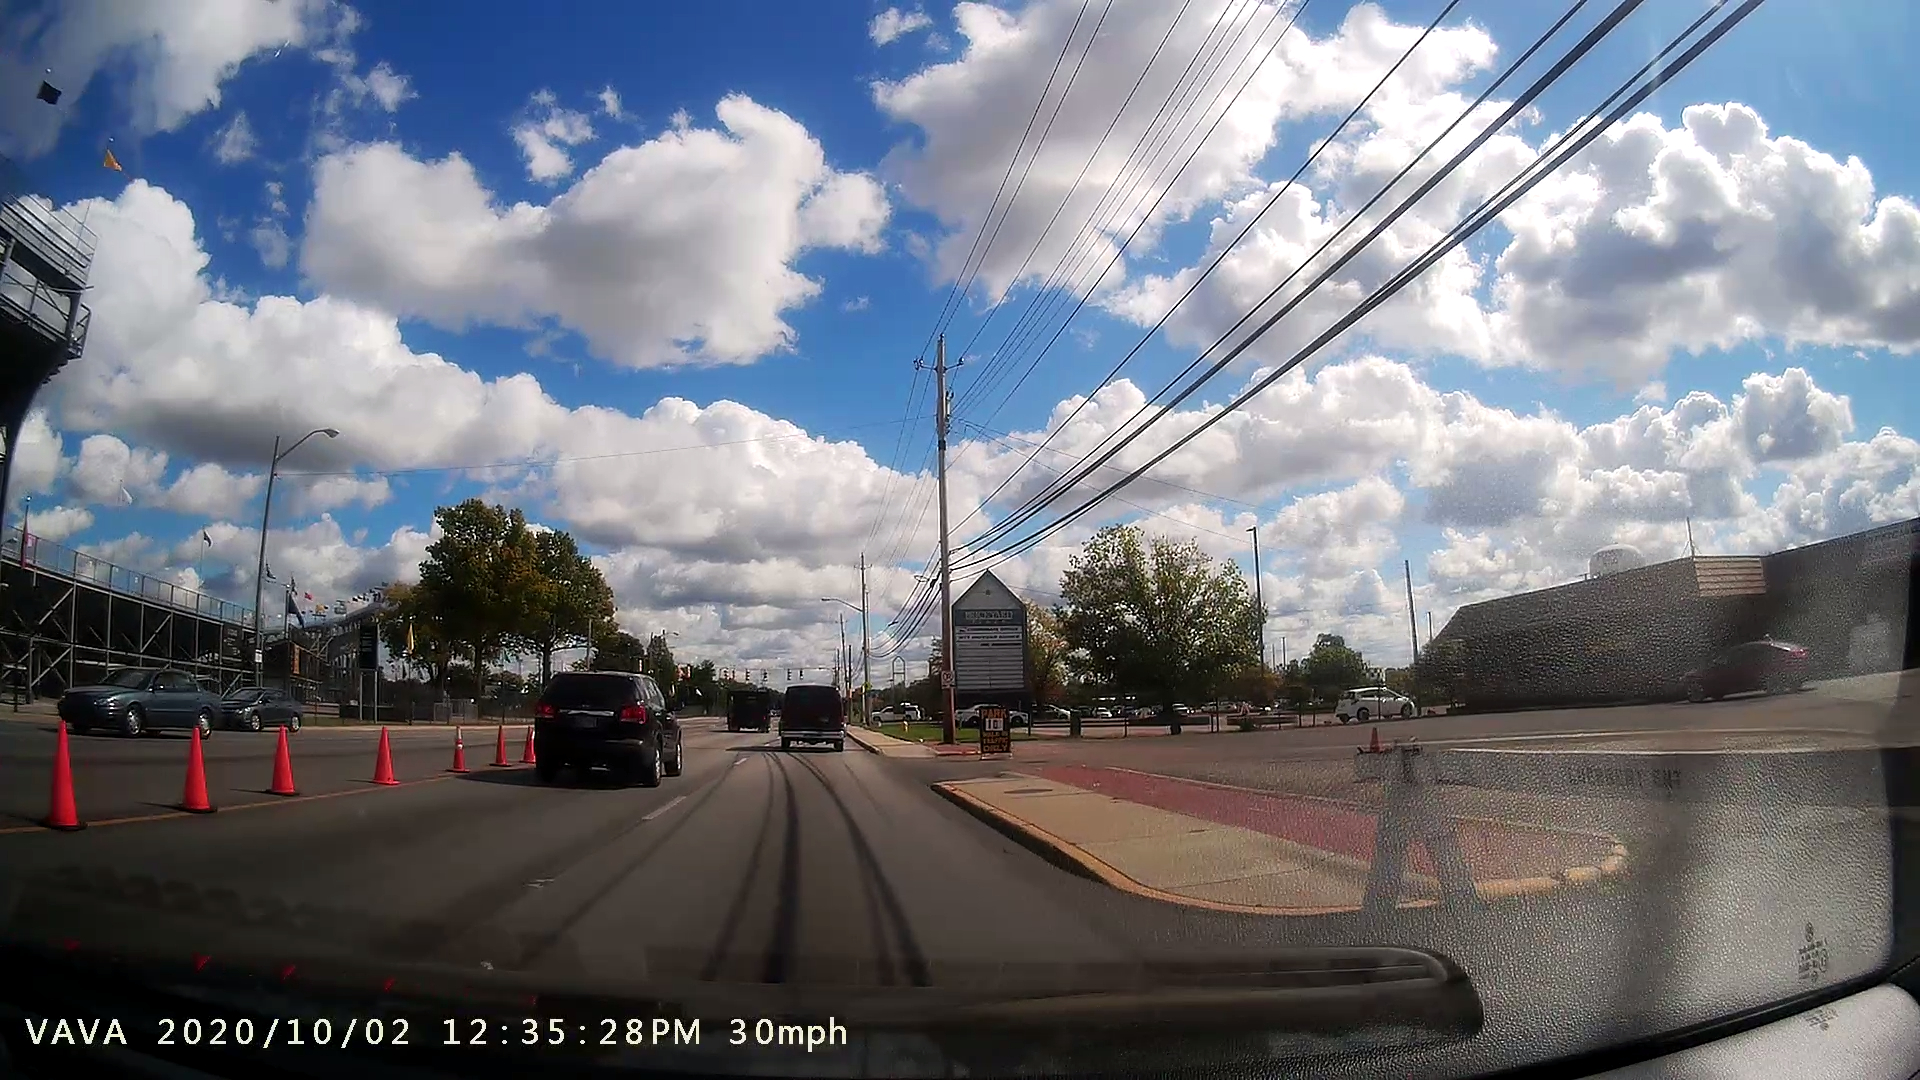const_cone: (28, 705, 102, 844), (167, 705, 223, 818), (255, 716, 316, 812), (360, 717, 409, 790), (434, 712, 483, 778), (487, 709, 518, 779)
